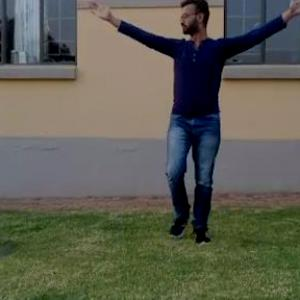takeoff: (90, 0, 299, 236)
